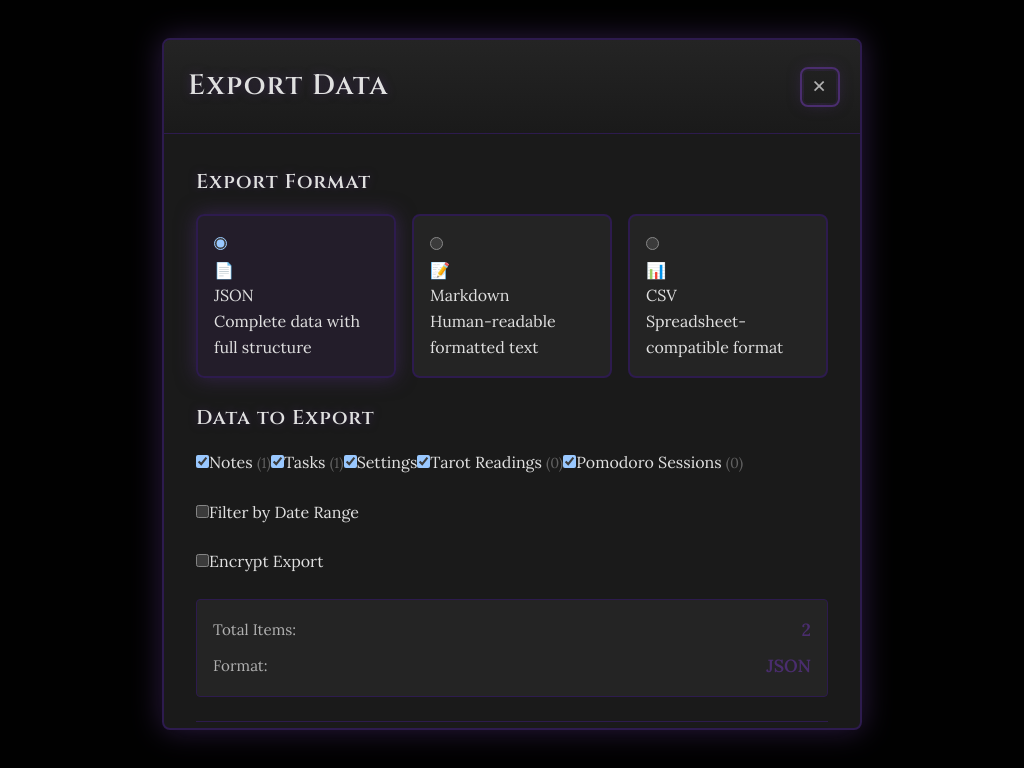
Test: ExportDialog › should show encryption input when enabled
Click the checkbox labelled "Encrypt Export". click: (202, 561)
box: [196, 554, 209, 567]
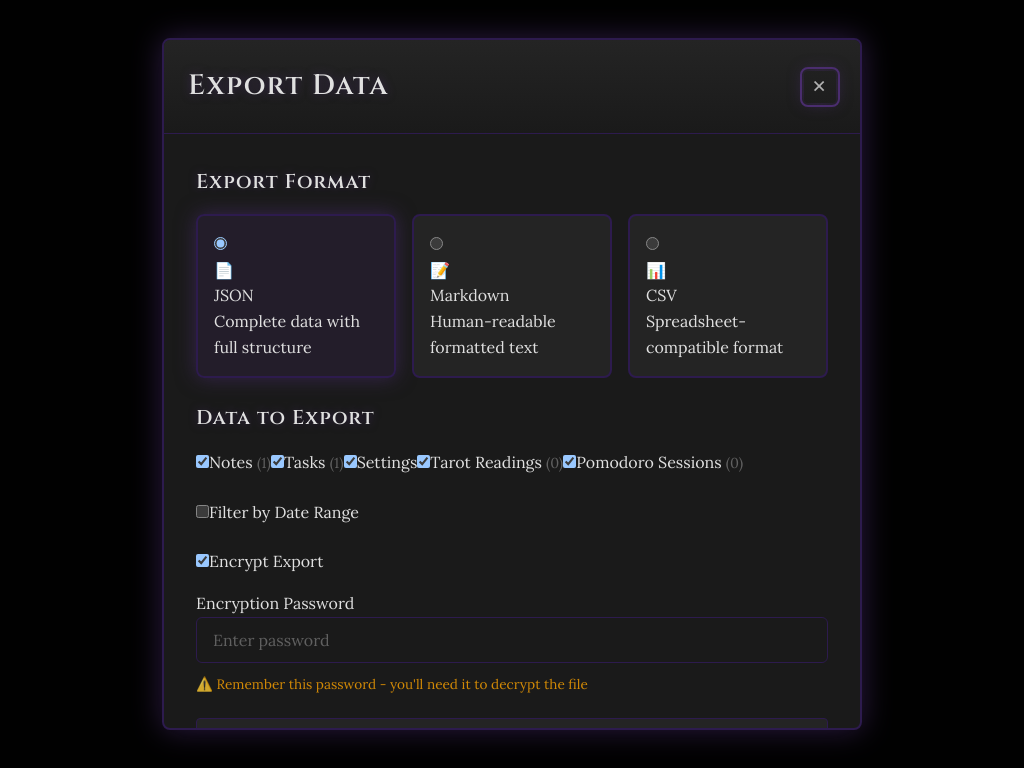
Result: the password field labelled "Encryption Password" is shown at [196, 616, 828, 662]
